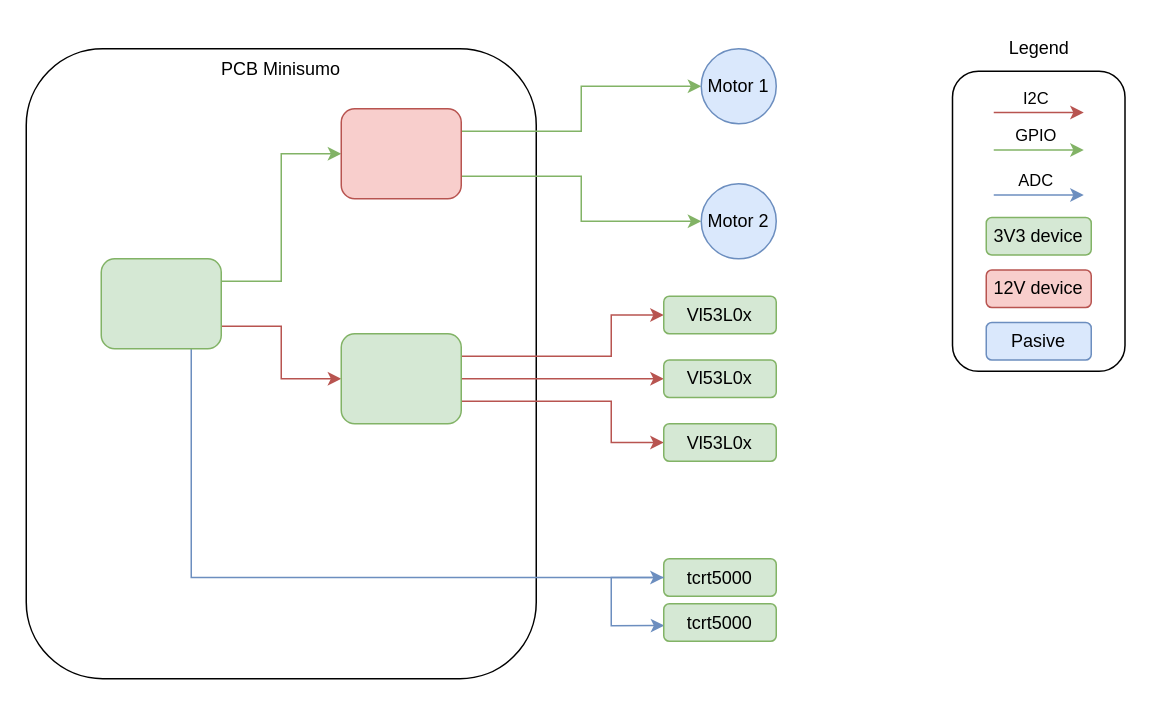
The diagram is 1152 pixels wide and 705 high, and some of its shapes have lost their labels. The centre of each missing label's shape, as x and y in pixels:
ESP32: (x=160, y=303)
TB6612fng: (x=400, y=153)
TCA9548A: (x=400, y=378)
